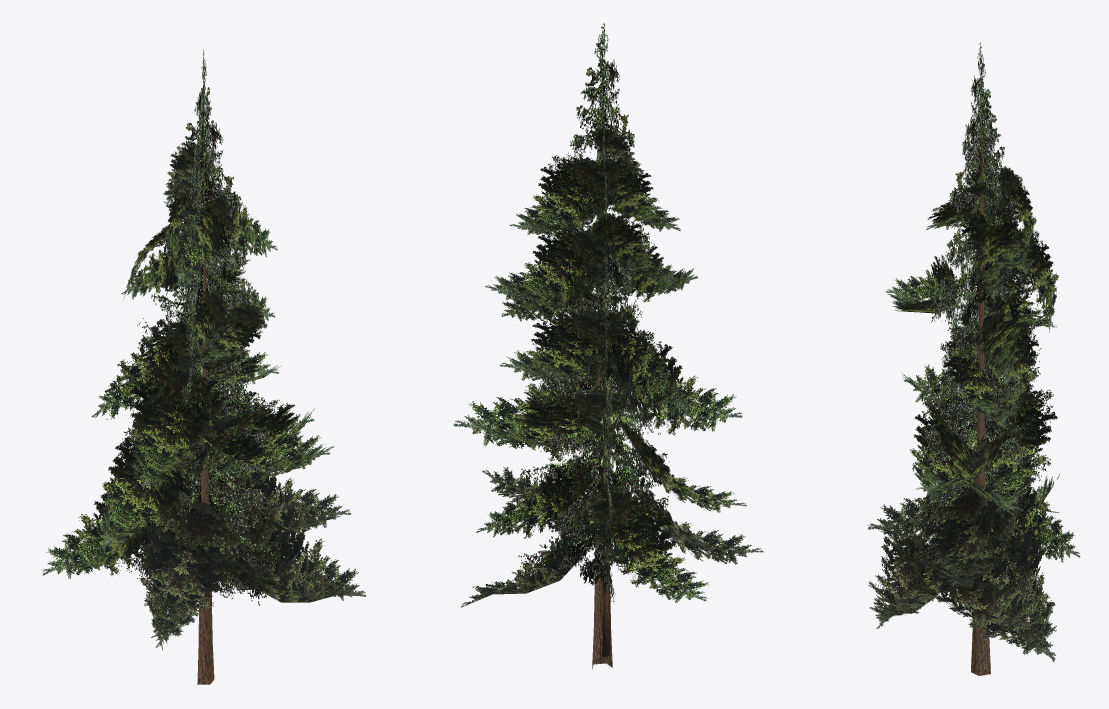
File: stage-sequ-p2-340.glb
3 renders of one model, left to right at view 1: azimuth 30°, elevation 25°; view 2: azimuth 150°, elevation 25°; view 3: azimuth 270°, elevation 25°, orthographic. The views are drawn at different scales.
Bounding box in the file's own units: 33.98 × 67.42 × 26.1.
Materials: 4 (4 with a texture image).
